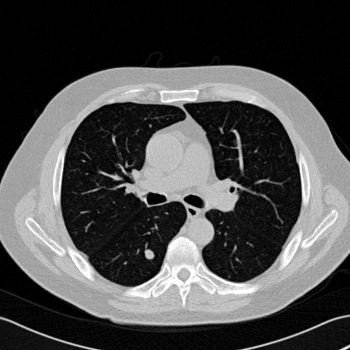nodule: (144, 249, 154, 259)
